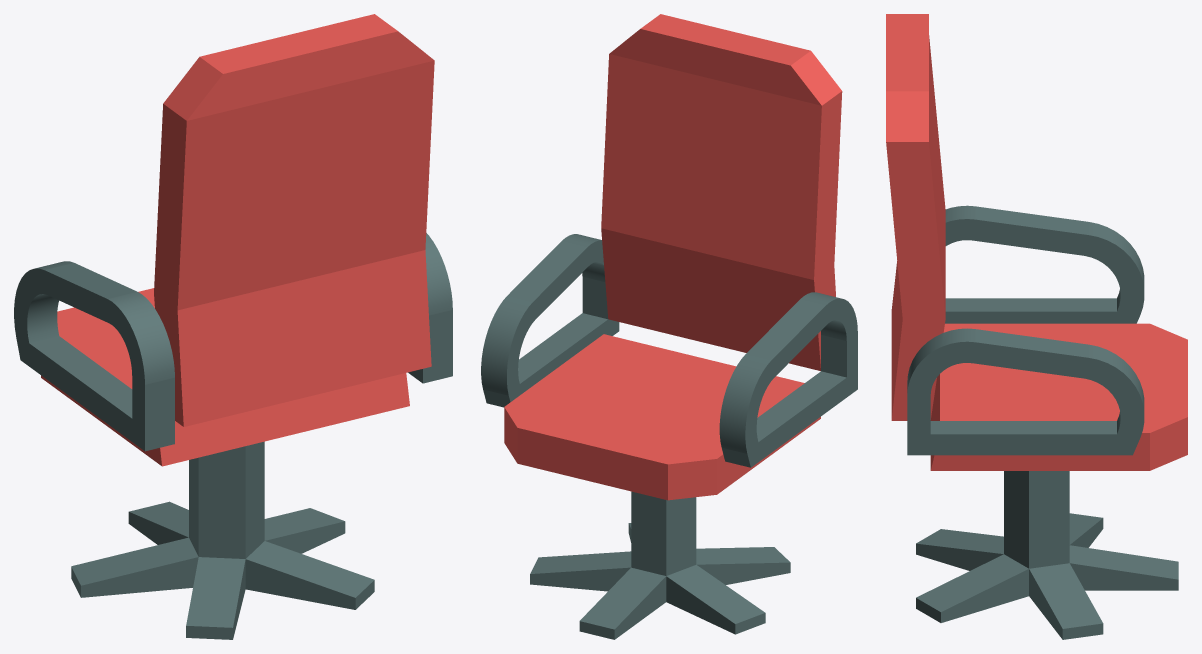
File: chairDesk.obj
The picture shows the model from 3 angles, left to right: view 1: azimuth 30°, elevation 25°; view 2: azimuth 150°, elevation 25°; view 3: azimuth 270°, elevation 25°; orthographic projection. The views are drawn at different scales.
Parts seen in each view (by area): view 1: chair, chairDesk; view 2: chair, chairDesk; view 3: chair, chairDesk.
Part boxes in pixels (bbox=[...]): chair: bbox=[14, 14, 452, 466]; chairDesk: bbox=[71, 441, 374, 639]; chair: bbox=[481, 14, 857, 500]; chairDesk: bbox=[530, 491, 790, 639]; chair: bbox=[886, 14, 1187, 470]; chairDesk: bbox=[916, 471, 1178, 639].
Bounding box in the file's own units: 0.335 × 0.6076 × 0.3143.
